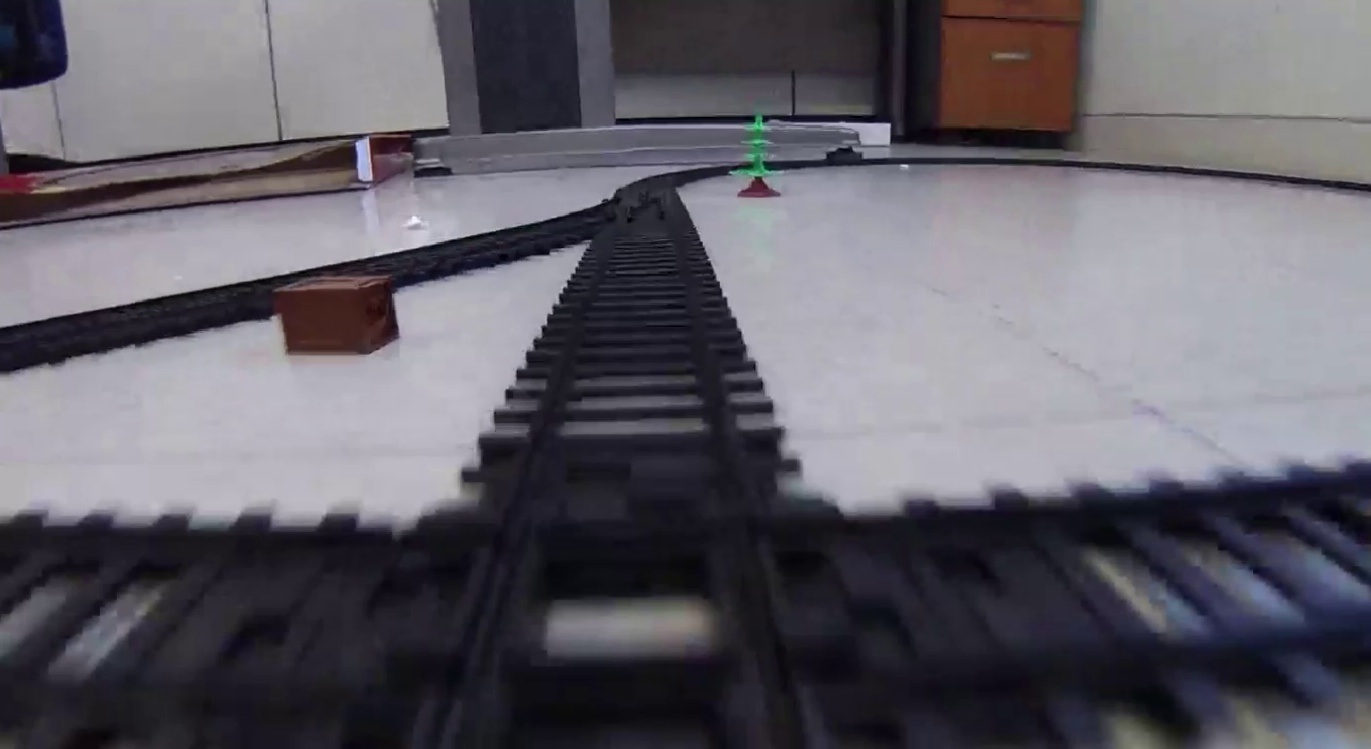box: (279, 274, 402, 355)
tree: (728, 113, 789, 201)
